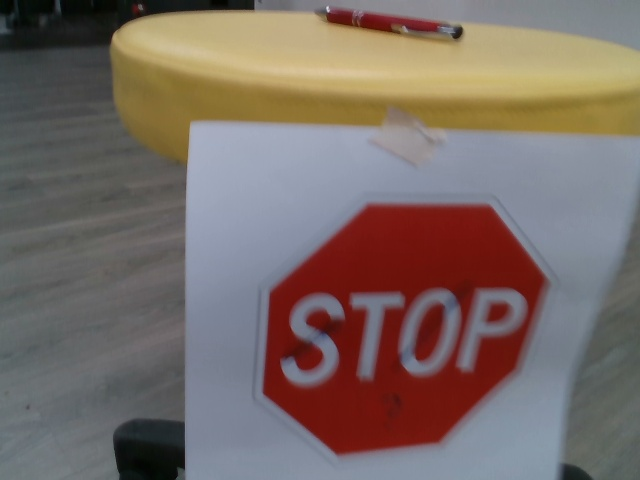stop: (252, 193, 555, 458)
